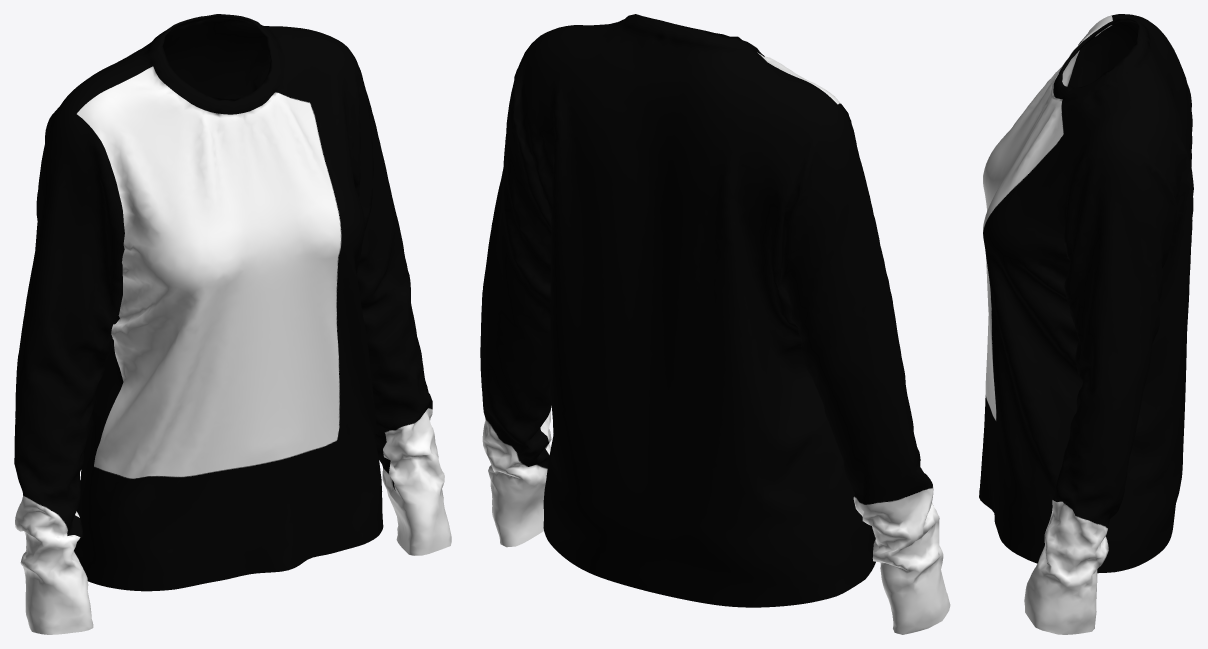
The model's file is 6Gk6jmkNOJN4AWdQdIsoS2PfUDhUGgiVDl0XqF8C.glb.
The picture shows the model from 3 angles, left to right: view 1: azimuth 30°, elevation 25°; view 2: azimuth 150°, elevation 25°; view 3: azimuth 270°, elevation 25°; orthographic projection. The views are drawn at different scales.
Visible parts, largest first — view 1: Front, R_Sleeve, L_Sleeve, Back, Collar; view 2: Back, R_Sleeve, L_Sleeve, Collar, Front; view 3: Front, L_Sleeve, Back, R_Sleeve, Collar.
Part boxes in pixels (<box>): Front: <box>77,37,383,591</box>; R_Sleeve: <box>14,108,124,634</box>; L_Sleeve: <box>349,49,451,555</box>; Back: <box>55,18,348,574</box>; Collar: <box>148,14,283,114</box>; Back: <box>520,21,864,607</box>; R_Sleeve: <box>780,103,950,634</box>; L_Sleeve: <box>480,45,551,547</box>; Collar: <box>620,14,764,56</box>; Front: <box>574,24,875,579</box>; Front: <box>979,15,1113,563</box>; L_Sleeve: <box>1024,146,1177,634</box>; Back: <box>1097,14,1193,573</box>; R_Sleeve: <box>1067,21,1137,87</box>; Collar: <box>1053,18,1149,99</box>.
Bounding box in the file's own units: 0.2215 × 0.2796 × 0.1059.
4 materials, 4 textured.
